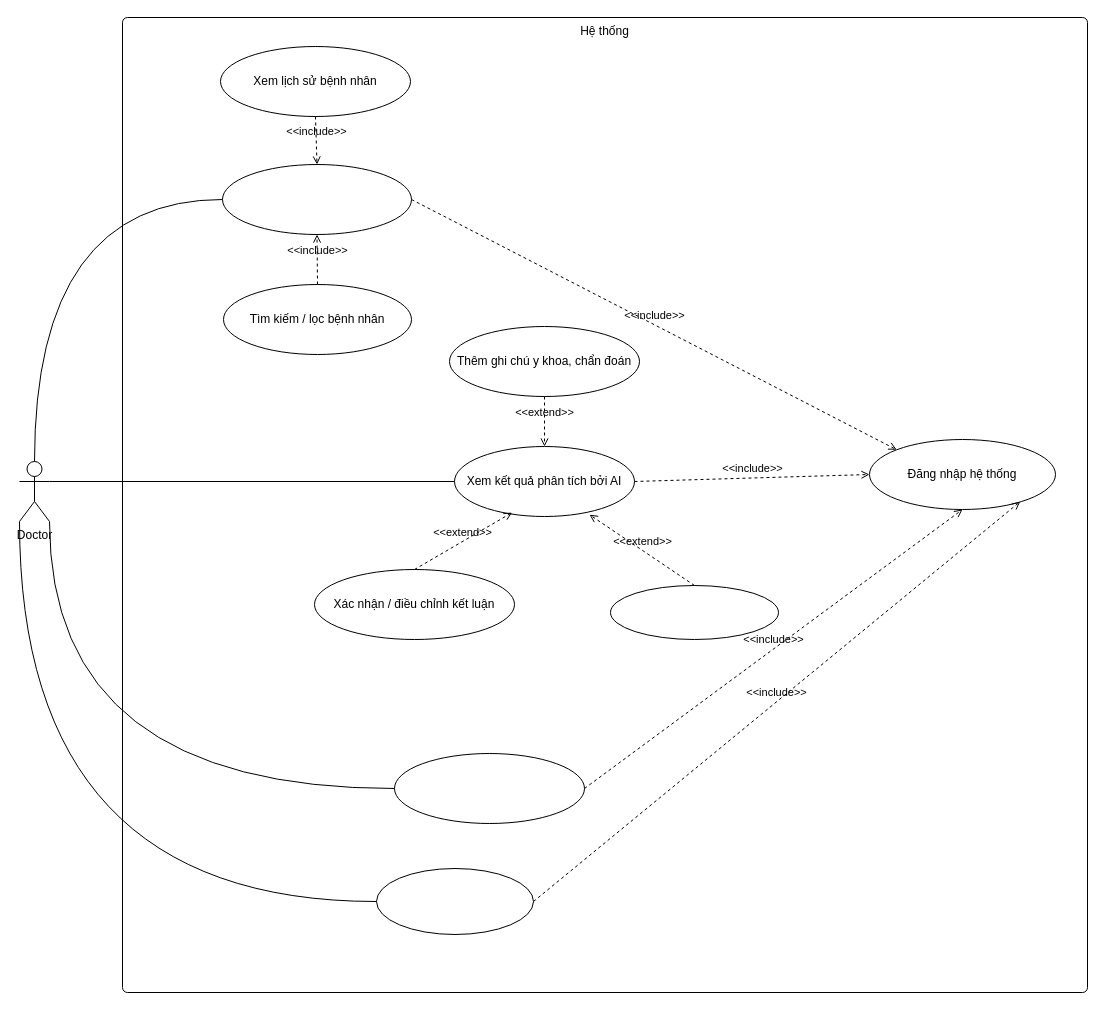
The diagram is 1105 pixels wide and 1010 high, and some of its shapes have lost their labels. Each missing label, with the box of its shape:
Chat tư vấn với bệnh nhân: (394, 752, 584, 824)
Gửi phản hồi cải thiện AI: (610, 584, 778, 640)
Quản lý bệnh nhân: (222, 164, 412, 234)
Xem báo cáo thống kê: (376, 868, 534, 934)
